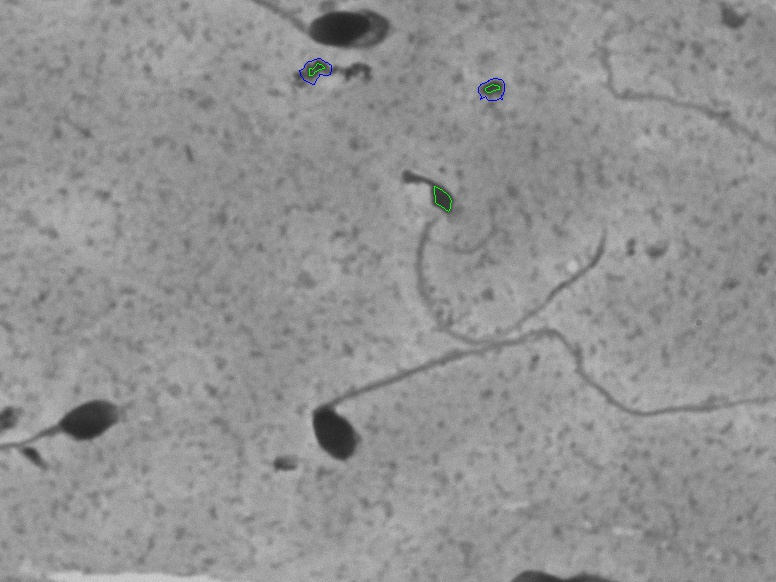Abnormal: (286, 315, 771, 474)
